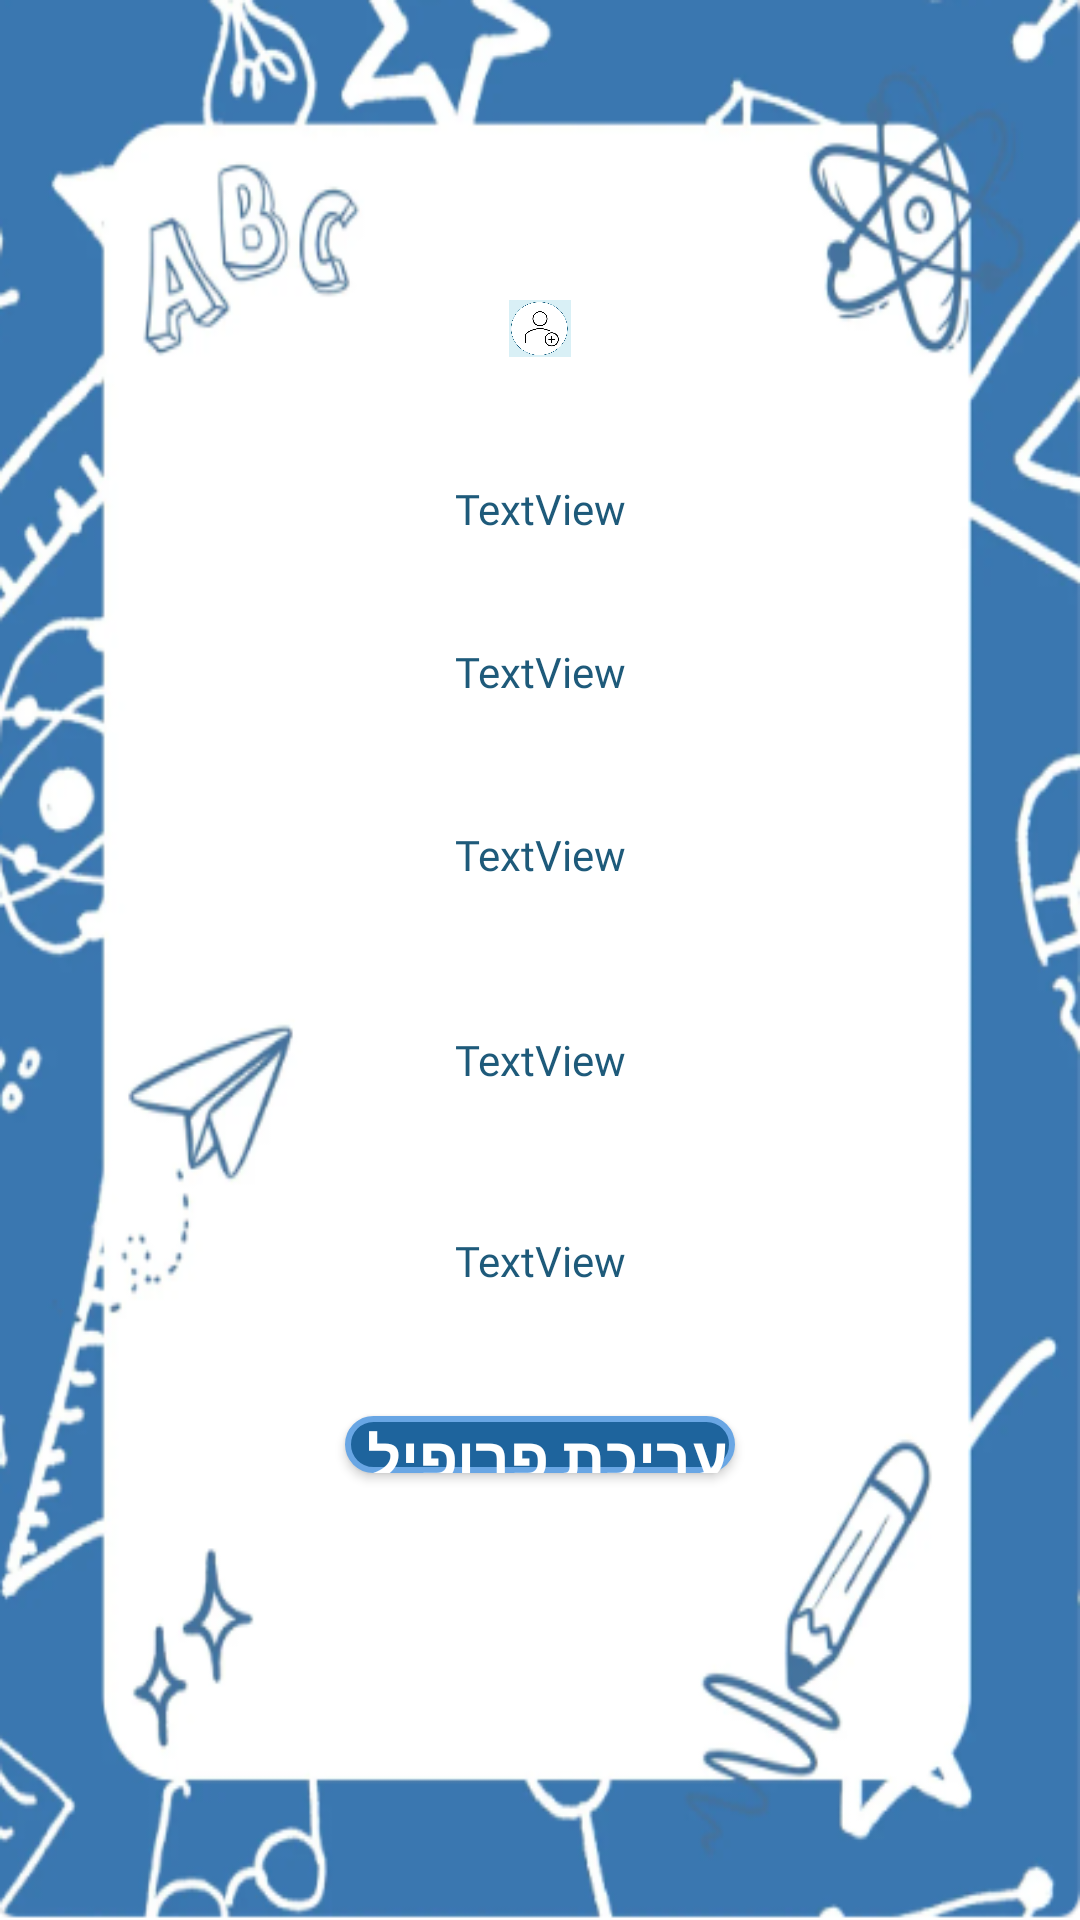

Where icons sit on this 1080 × 1920 app screen, as (x1, y1, x2, y2):
profil: (509, 300, 571, 357)
